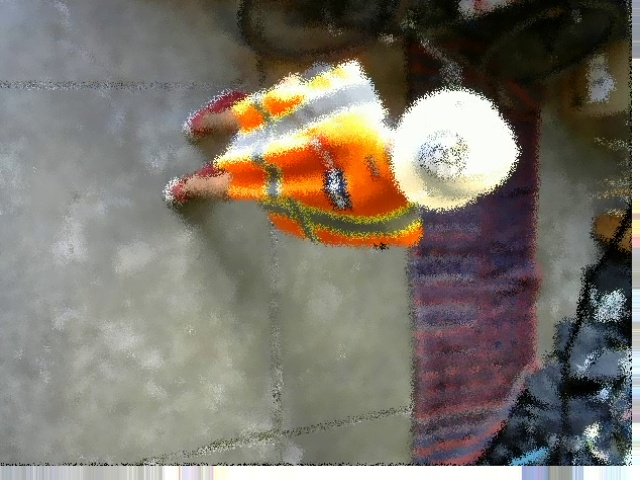eight: (421, 131, 468, 179)
